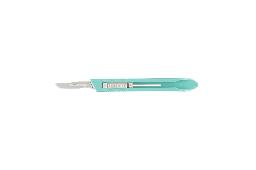scalpel: (54, 77, 200, 93)
